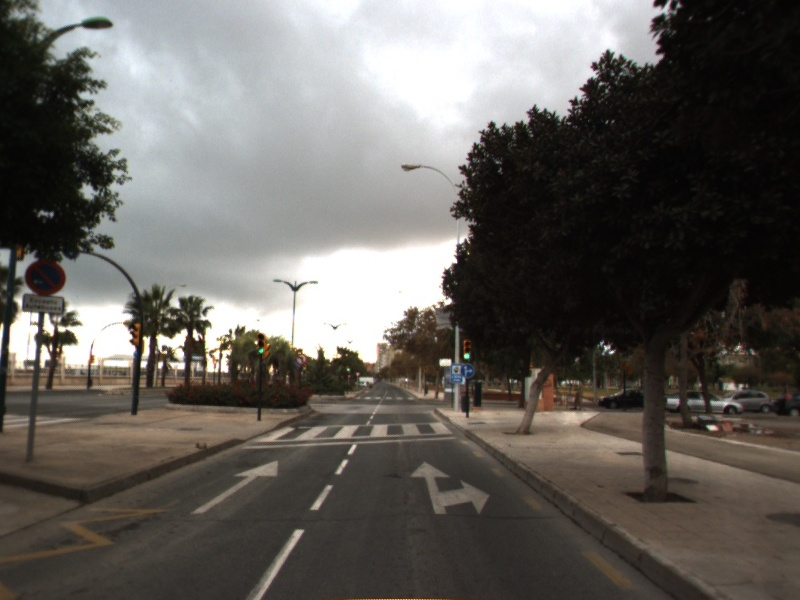STRAIGHT: (190, 457, 281, 517)
STRAIGHT_RIGHT: (407, 459, 494, 519)
